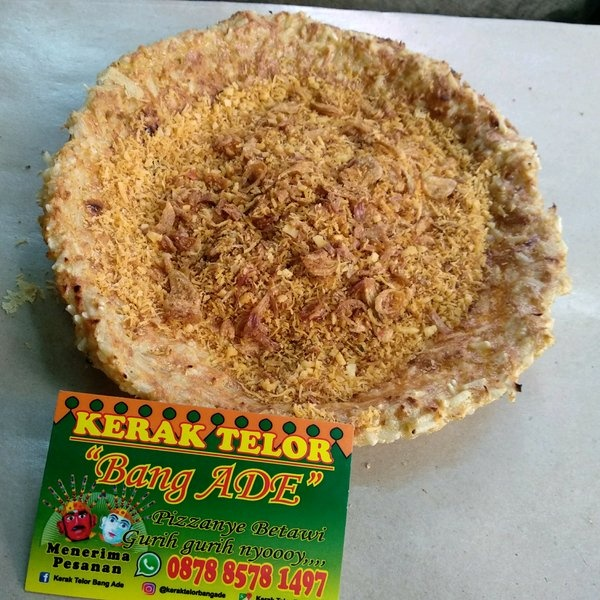kerak_telor: (39, 8, 564, 443)
